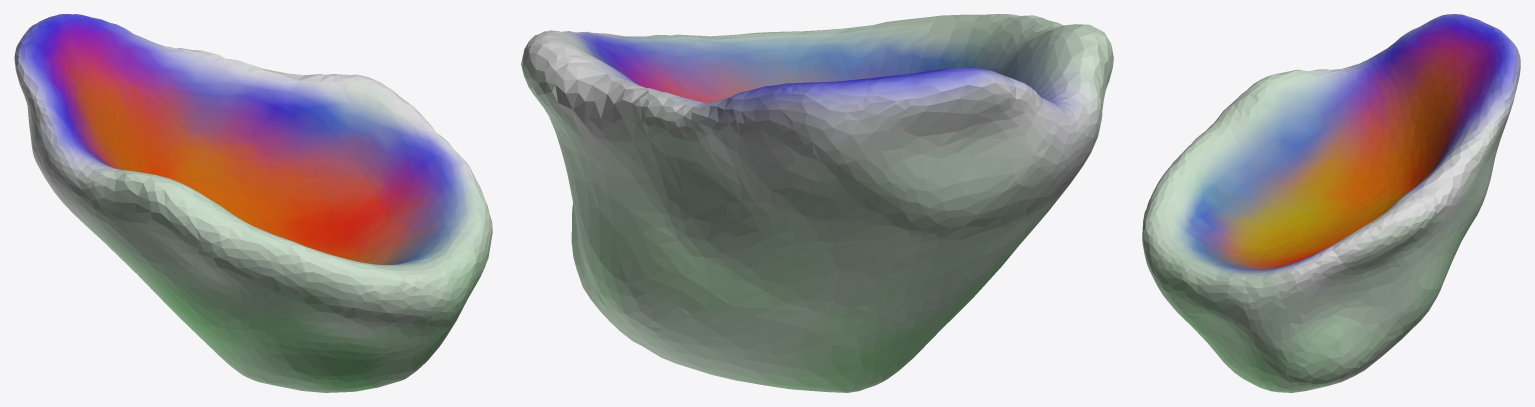
Rendered from Floating Island BowlJump.fbx.
3 renders of one model, left to right at view 1: azimuth 30°, elevation 25°; view 2: azimuth 150°, elevation 25°; view 3: azimuth 270°, elevation 25°, orthographic. The views are drawn at different scales.
Parts seen in each view (by area): view 1: Sphere; view 2: Sphere; view 3: Sphere.
Boxes of the visible parts, x1=… form: Sphere: x1=14, y1=14, x2=492, y2=392; Sphere: x1=521, y1=14, x2=1113, y2=392; Sphere: x1=1142, y1=14, x2=1520, y2=392.
Size of the model in its own units: 248 by 198 by 253.
